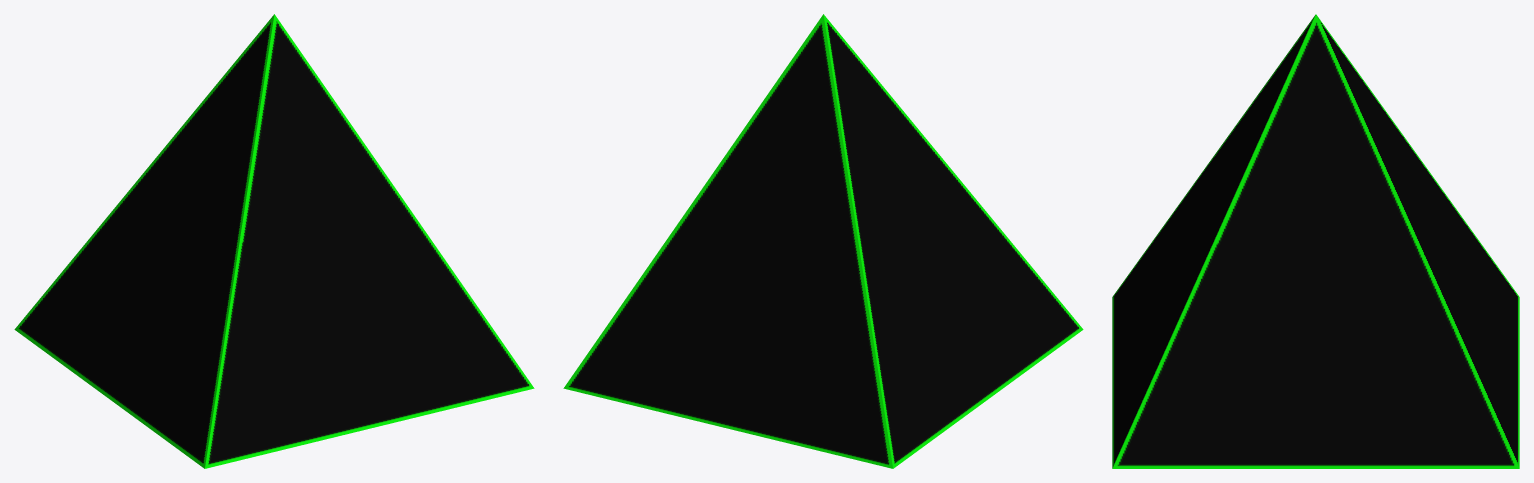
The model's file is Enemy.FBX.
The picture shows the model from 3 angles, left to right: view 1: azimuth 30°, elevation 25°; view 2: azimuth 150°, elevation 25°; view 3: azimuth 270°, elevation 25°; orthographic projection. The views are drawn at different scales.
Visible parts, largest first — view 1: Pyramid001; view 2: Pyramid001; view 3: Pyramid001.
Boxes of the visible parts, x1,y1,x2,y2 form: Pyramid001: [14, 14, 534, 468]; Pyramid001: [563, 14, 1083, 468]; Pyramid001: [1112, 14, 1519, 468].
Size of the model in its own units: 4 by 4 by 4.
Materials: 1 (1 with a texture image).
